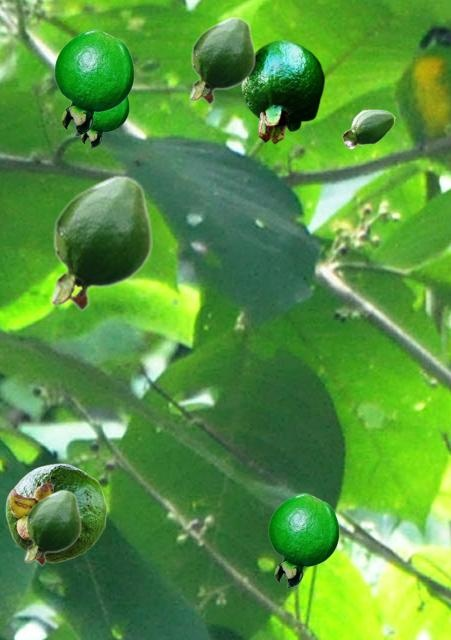guava: (50, 174, 151, 311), (5, 463, 106, 562), (241, 39, 324, 143), (54, 29, 133, 135), (268, 493, 338, 587), (189, 16, 254, 104), (24, 489, 80, 565), (80, 97, 128, 147), (342, 109, 394, 148)
